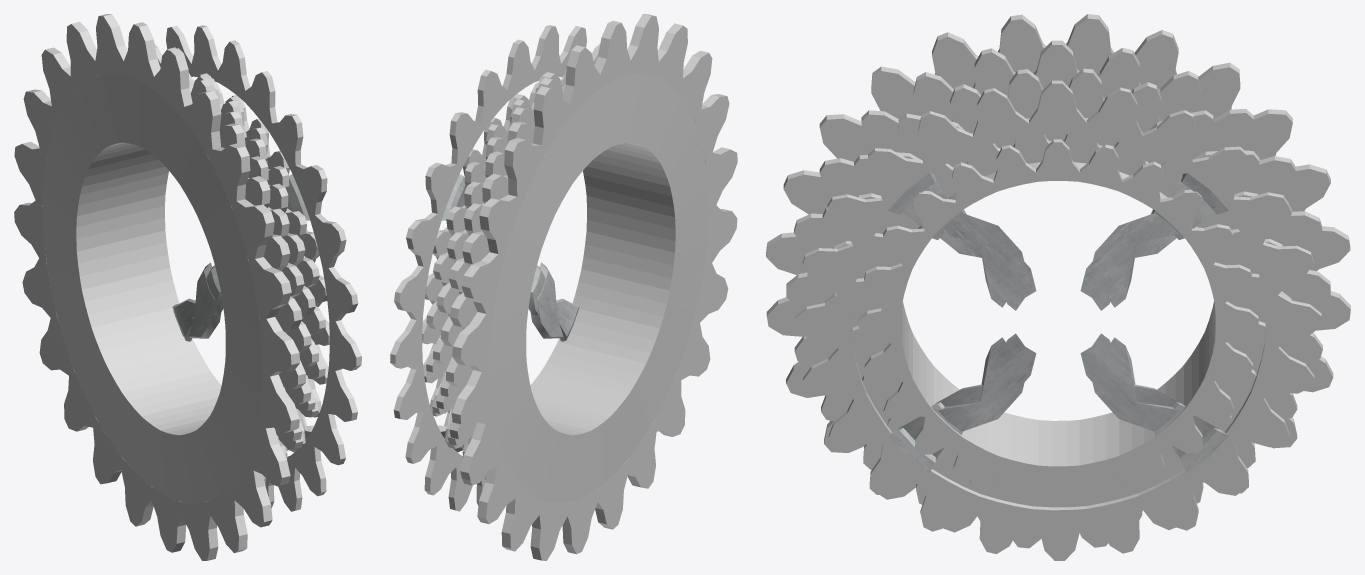
The model's file is Catracas padrao.glb.
The picture shows the model from 3 angles, left to right: view 1: azimuth 30°, elevation 25°; view 2: azimuth 150°, elevation 25°; view 3: azimuth 270°, elevation 25°; orthographic projection. The views are drawn at different scales.
Parts seen in each view (by area): view 1: Catraca traseira, Catraca frontal; view 2: Catraca traseira, Catraca frontal; view 3: Catraca traseira, Catraca frontal.
Boxes of the visible parts, x1,y1,x2,y2 form: Catraca traseira: (14,14,329,560); Catraca frontal: (154,25,361,511); Catraca traseira: (422,14,737,560); Catraca frontal: (390,25,600,511); Catraca traseira: (766,14,1350,548); Catraca frontal: (795,80,1321,560).
Bounding box in the file's own units: 0.0223 × 0.1207 × 0.1207.
Materials: 2 (1 with a texture image).
